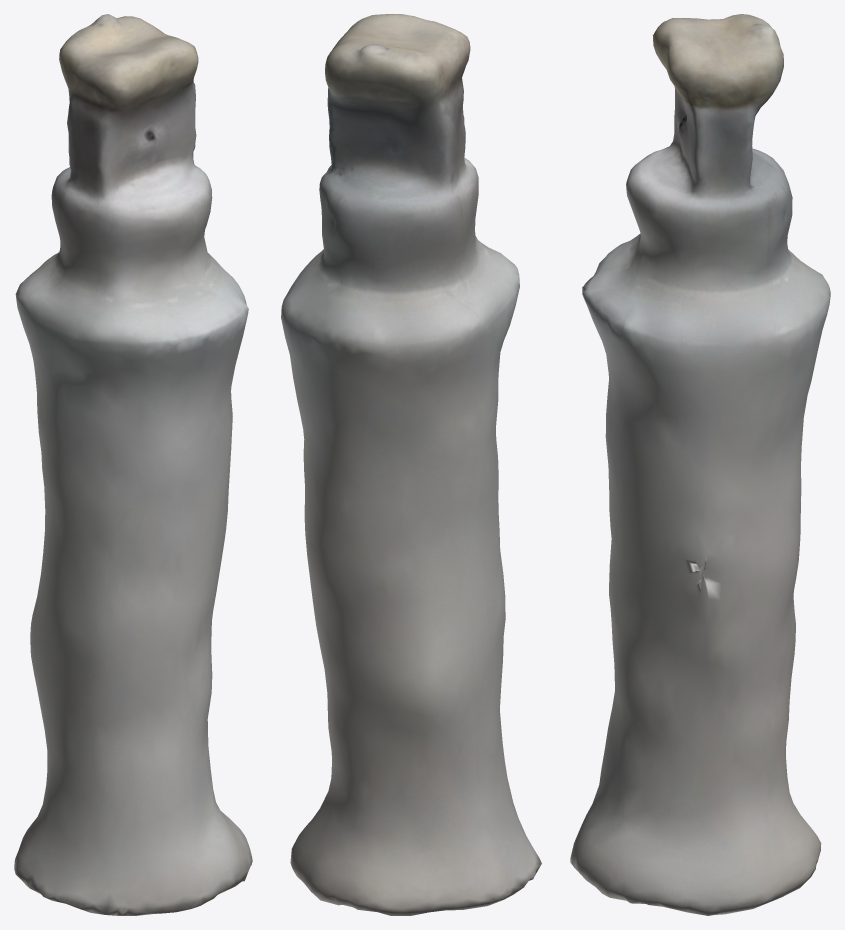
File: 3DModel.obj
The picture shows the model from 3 angles, left to right: view 1: azimuth 30°, elevation 25°; view 2: azimuth 150°, elevation 25°; view 3: azimuth 270°, elevation 25°; orthographic projection. The views are drawn at different scales.
Visible parts, largest first — view 1: submesh; view 2: submesh; view 3: submesh.
Part boxes in pixels (x1,y1,x2,y2): submesh: (14, 14, 252, 915); submesh: (281, 14, 541, 915); submesh: (570, 14, 830, 915).
Size of the model in its own units: 0.0393 by 0.1518 by 0.042.
Materials: 1 (1 with a texture image).
